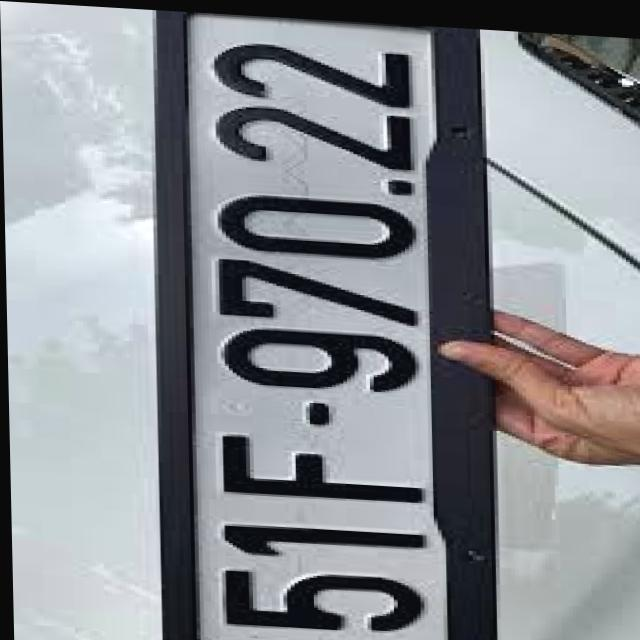bien so: (170, 10, 457, 640)
